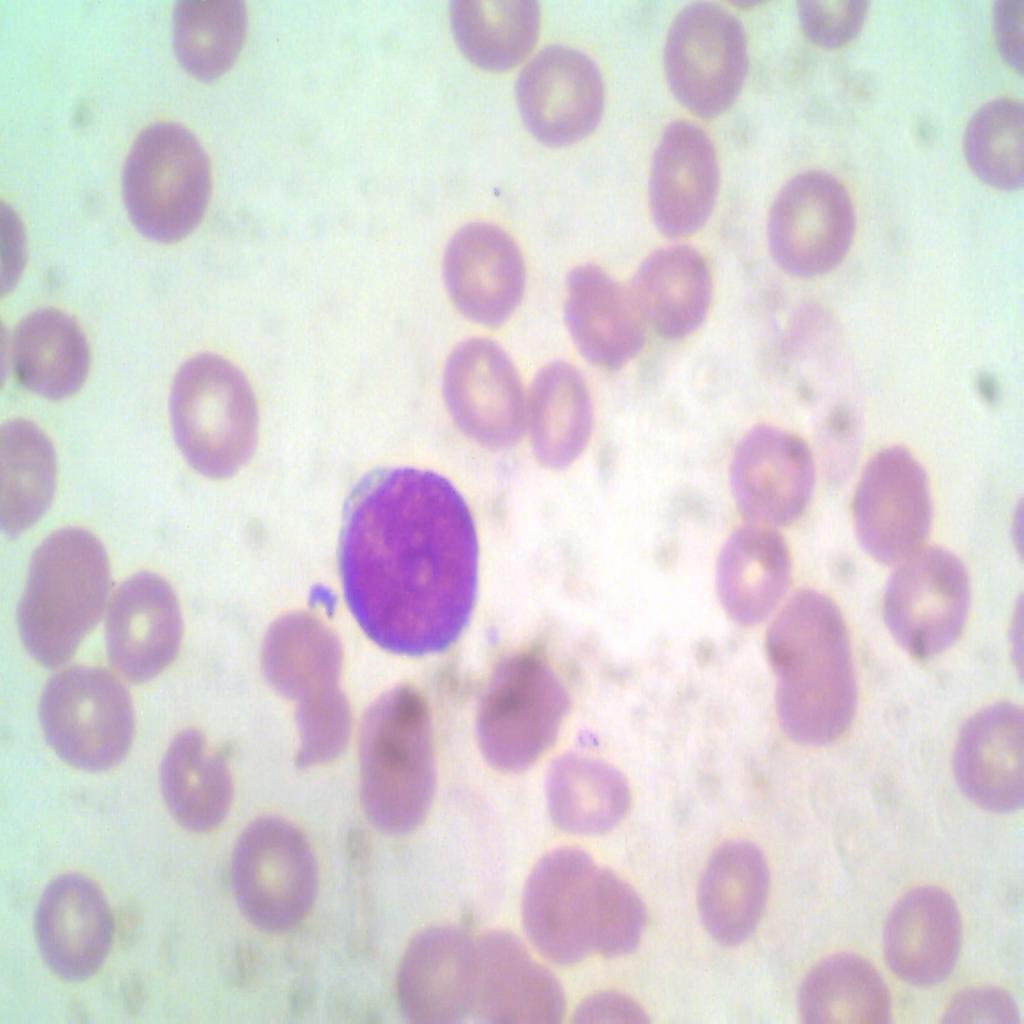Eritrosit: (122, 112, 224, 265), (168, 337, 266, 492), (360, 685, 446, 847), (470, 651, 566, 787), (722, 409, 826, 531), (230, 818, 332, 941), (438, 211, 539, 335), (506, 348, 600, 481), (878, 528, 969, 663), (510, 826, 604, 954), (654, 2, 752, 121), (21, 521, 106, 657), (849, 440, 938, 568), (1, 295, 93, 418), (471, 908, 569, 1023), (435, 332, 529, 450), (42, 658, 138, 771), (876, 865, 968, 980), (763, 167, 862, 271), (516, 42, 603, 159), (946, 692, 1023, 822), (99, 558, 182, 678), (30, 862, 112, 983), (390, 920, 486, 1023), (642, 111, 718, 238), (758, 575, 851, 678), (706, 517, 794, 625), (776, 651, 864, 757), (261, 610, 356, 704), (273, 671, 355, 778), (0, 409, 64, 544), (562, 260, 646, 361), (630, 246, 718, 340), (549, 732, 628, 829), (158, 725, 232, 828), (566, 864, 646, 958), (168, 0, 251, 89), (955, 94, 1023, 197), (792, 942, 878, 1023), (450, 0, 538, 79), (709, 828, 766, 947)
Limfoblast: (336, 459, 491, 655)
Platelet: (296, 567, 338, 624)
